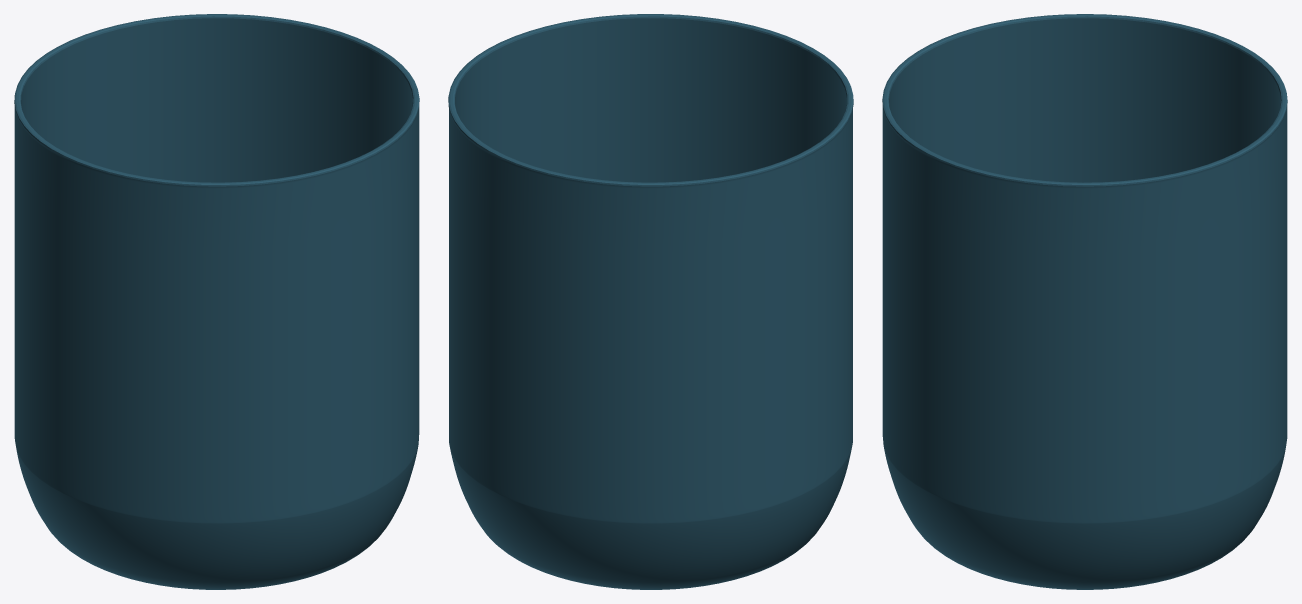
Rendered from BlueCeramicCup_11.5.fbx.
The picture shows the model from 3 angles, left to right: view 1: azimuth 30°, elevation 25°; view 2: azimuth 150°, elevation 25°; view 3: azimuth 270°, elevation 25°; orthographic projection.
Visible parts, largest first — view 1: Cup1; view 2: Cup1; view 3: Cup1.
Part boxes in pixels (x1=…): Cup1: x1=14, y1=14, x2=419, y2=589; Cup1: x1=448, y1=14, x2=853, y2=589; Cup1: x1=882, y1=14, x2=1287, y2=589.
Size of the model in its own units: 16.88 by 19.73 by 16.88.
